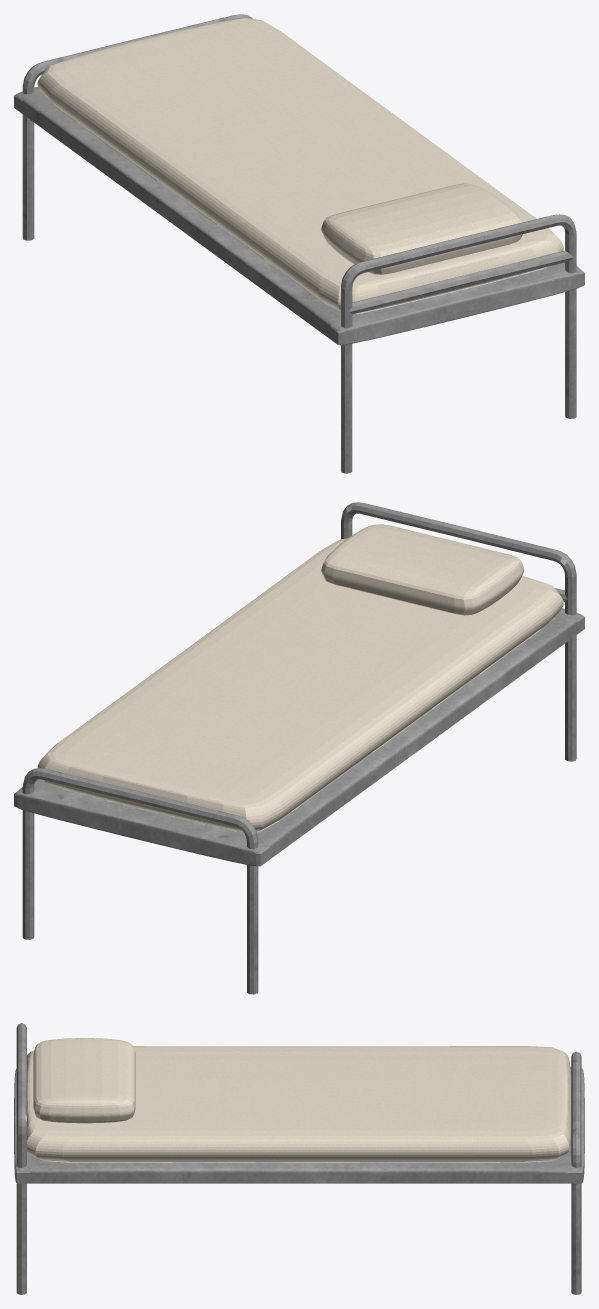
The model's file is Bed.FBX.
3 renders of one model, top to bottom at view 1: azimuth 30°, elevation 25°; view 2: azimuth 150°, elevation 25°; view 3: azimuth 270°, elevation 25°, orthographic. The views are drawn at different scales.
Parts seen in each view (by area): view 1: Bed; view 2: Bed; view 3: Bed.
Boxes of the visible parts, bbox=[...] form: Bed: bbox=[14, 14, 584, 473]; Bed: bbox=[14, 502, 584, 994]; Bed: bbox=[14, 1023, 584, 1294].
Bounding box in the file's own units: 511 × 1174 × 406.
